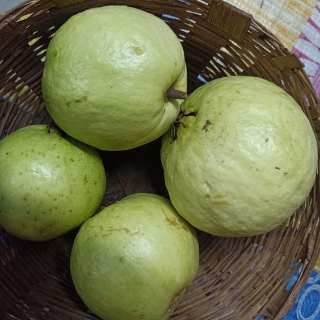oi: (159, 76, 318, 237), (43, 6, 187, 151), (73, 194, 200, 320)
